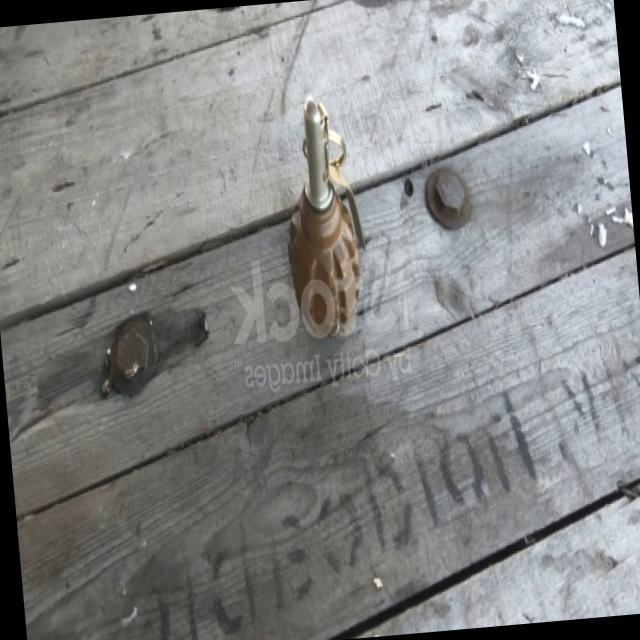grenade: (273, 81, 373, 338)
